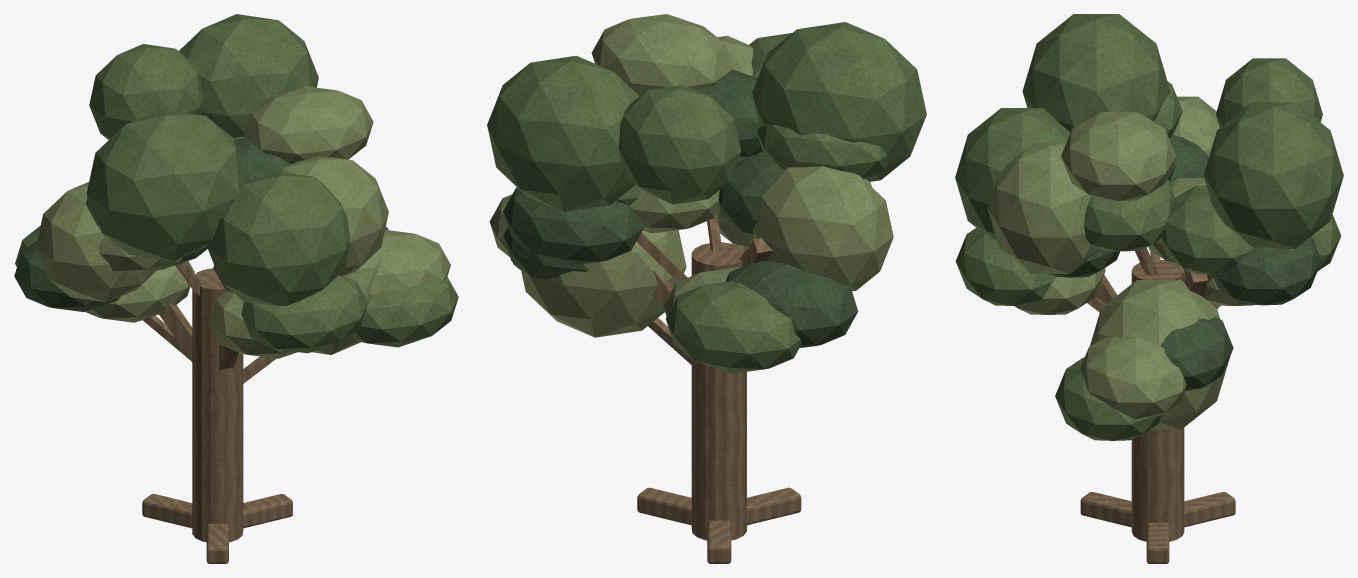
Rendered from NAT_TREE_PINE_1x1_001.glb.
3 views of the same model, side by side, from view 1: azimuth 30°, elevation 25°; view 2: azimuth 150°, elevation 25°; view 3: azimuth 270°, elevation 25° (orthographic). The views are drawn at different scales.
Visible parts, largest first — view 1: NAT_TREE_PINE_1x1_001_Visual; view 2: NAT_TREE_PINE_1x1_001_Visual; view 3: NAT_TREE_PINE_1x1_001_Visual.
Boxes of the visible parts, x1,y1,x2,y2 form: NAT_TREE_PINE_1x1_001_Visual: [14, 14, 458, 563]; NAT_TREE_PINE_1x1_001_Visual: [487, 14, 926, 563]; NAT_TREE_PINE_1x1_001_Visual: [955, 14, 1343, 563].
Size of what is drawn, in the model's own units: 1.27 by 1.48 by 1.11.
4 materials, 4 textured.
